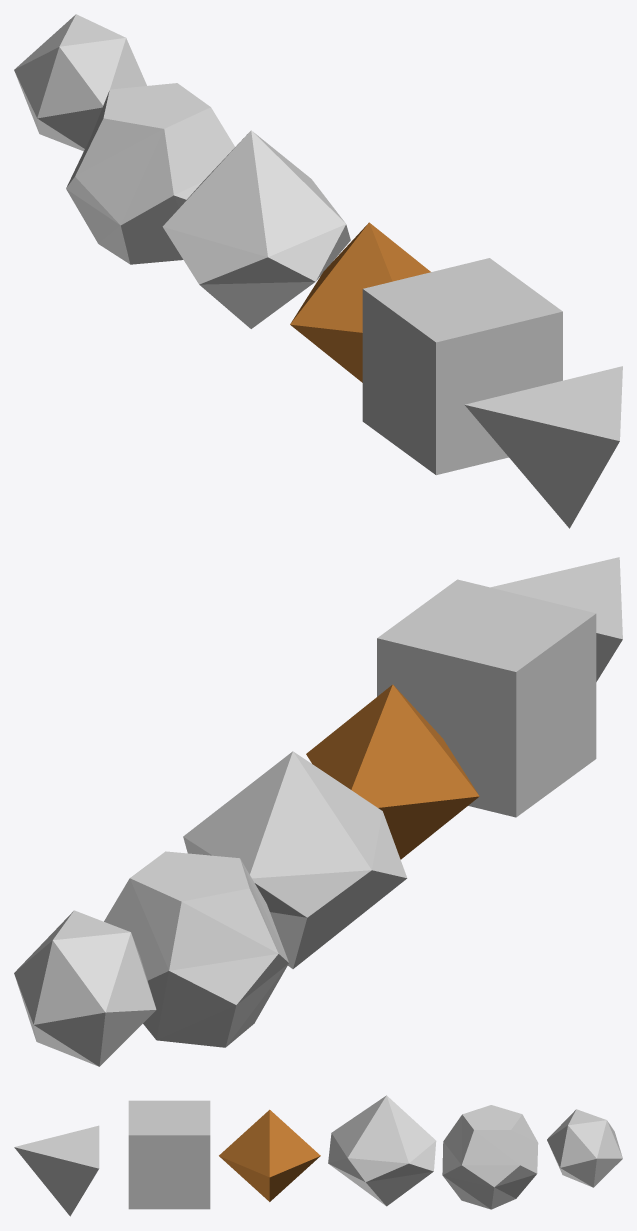
Rendered from dice.dae.
3 views of the same model, one above another, from view 1: azimuth 30°, elevation 25°; view 2: azimuth 150°, elevation 25°; view 3: azimuth 270°, elevation 25° (orthographic). The views are drawn at different scales.
Visible parts, largest first — view 1: d6, d10, d12, d4, d20, d8; view 2: d6, d10, d12, d20, d8, d4; view 3: d6, d12, d10, d8, d4, d20.
Boxes of the visible parts, x1=… form: d6: x1=362, y1=258, x2=562, y2=475; d10: x1=162, y1=130, x2=350, y2=328; d12: x1=66, y1=83, x2=234, y2=264; d4: x1=464, y1=366, x2=622, y2=528; d20: x1=14, y1=14, x2=146, y2=151; d8: x1=290, y1=222, x2=430, y2=382; d6: x1=377, y1=579, x2=596, y2=817; d10: x1=183, y1=751, x2=407, y2=968; d12: x1=104, y1=851, x2=288, y2=1047; d20: x1=14, y1=910, x2=156, y2=1066; d8: x1=306, y1=684, x2=479, y2=859; d4: x1=490, y1=557, x2=622, y2=681; d6: x1=128, y1=1100, x2=210, y2=1209; d12: x1=442, y1=1105, x2=538, y2=1209; d10: x1=328, y1=1095, x2=436, y2=1206; d8: x1=219, y1=1109, x2=320, y2=1201; d4: x1=14, y1=1125, x2=99, y2=1216; d20: x1=547, y1=1109, x2=622, y2=1187.
Bounding box in the file's own units: 1.24 × 5.95 × 1.21.
